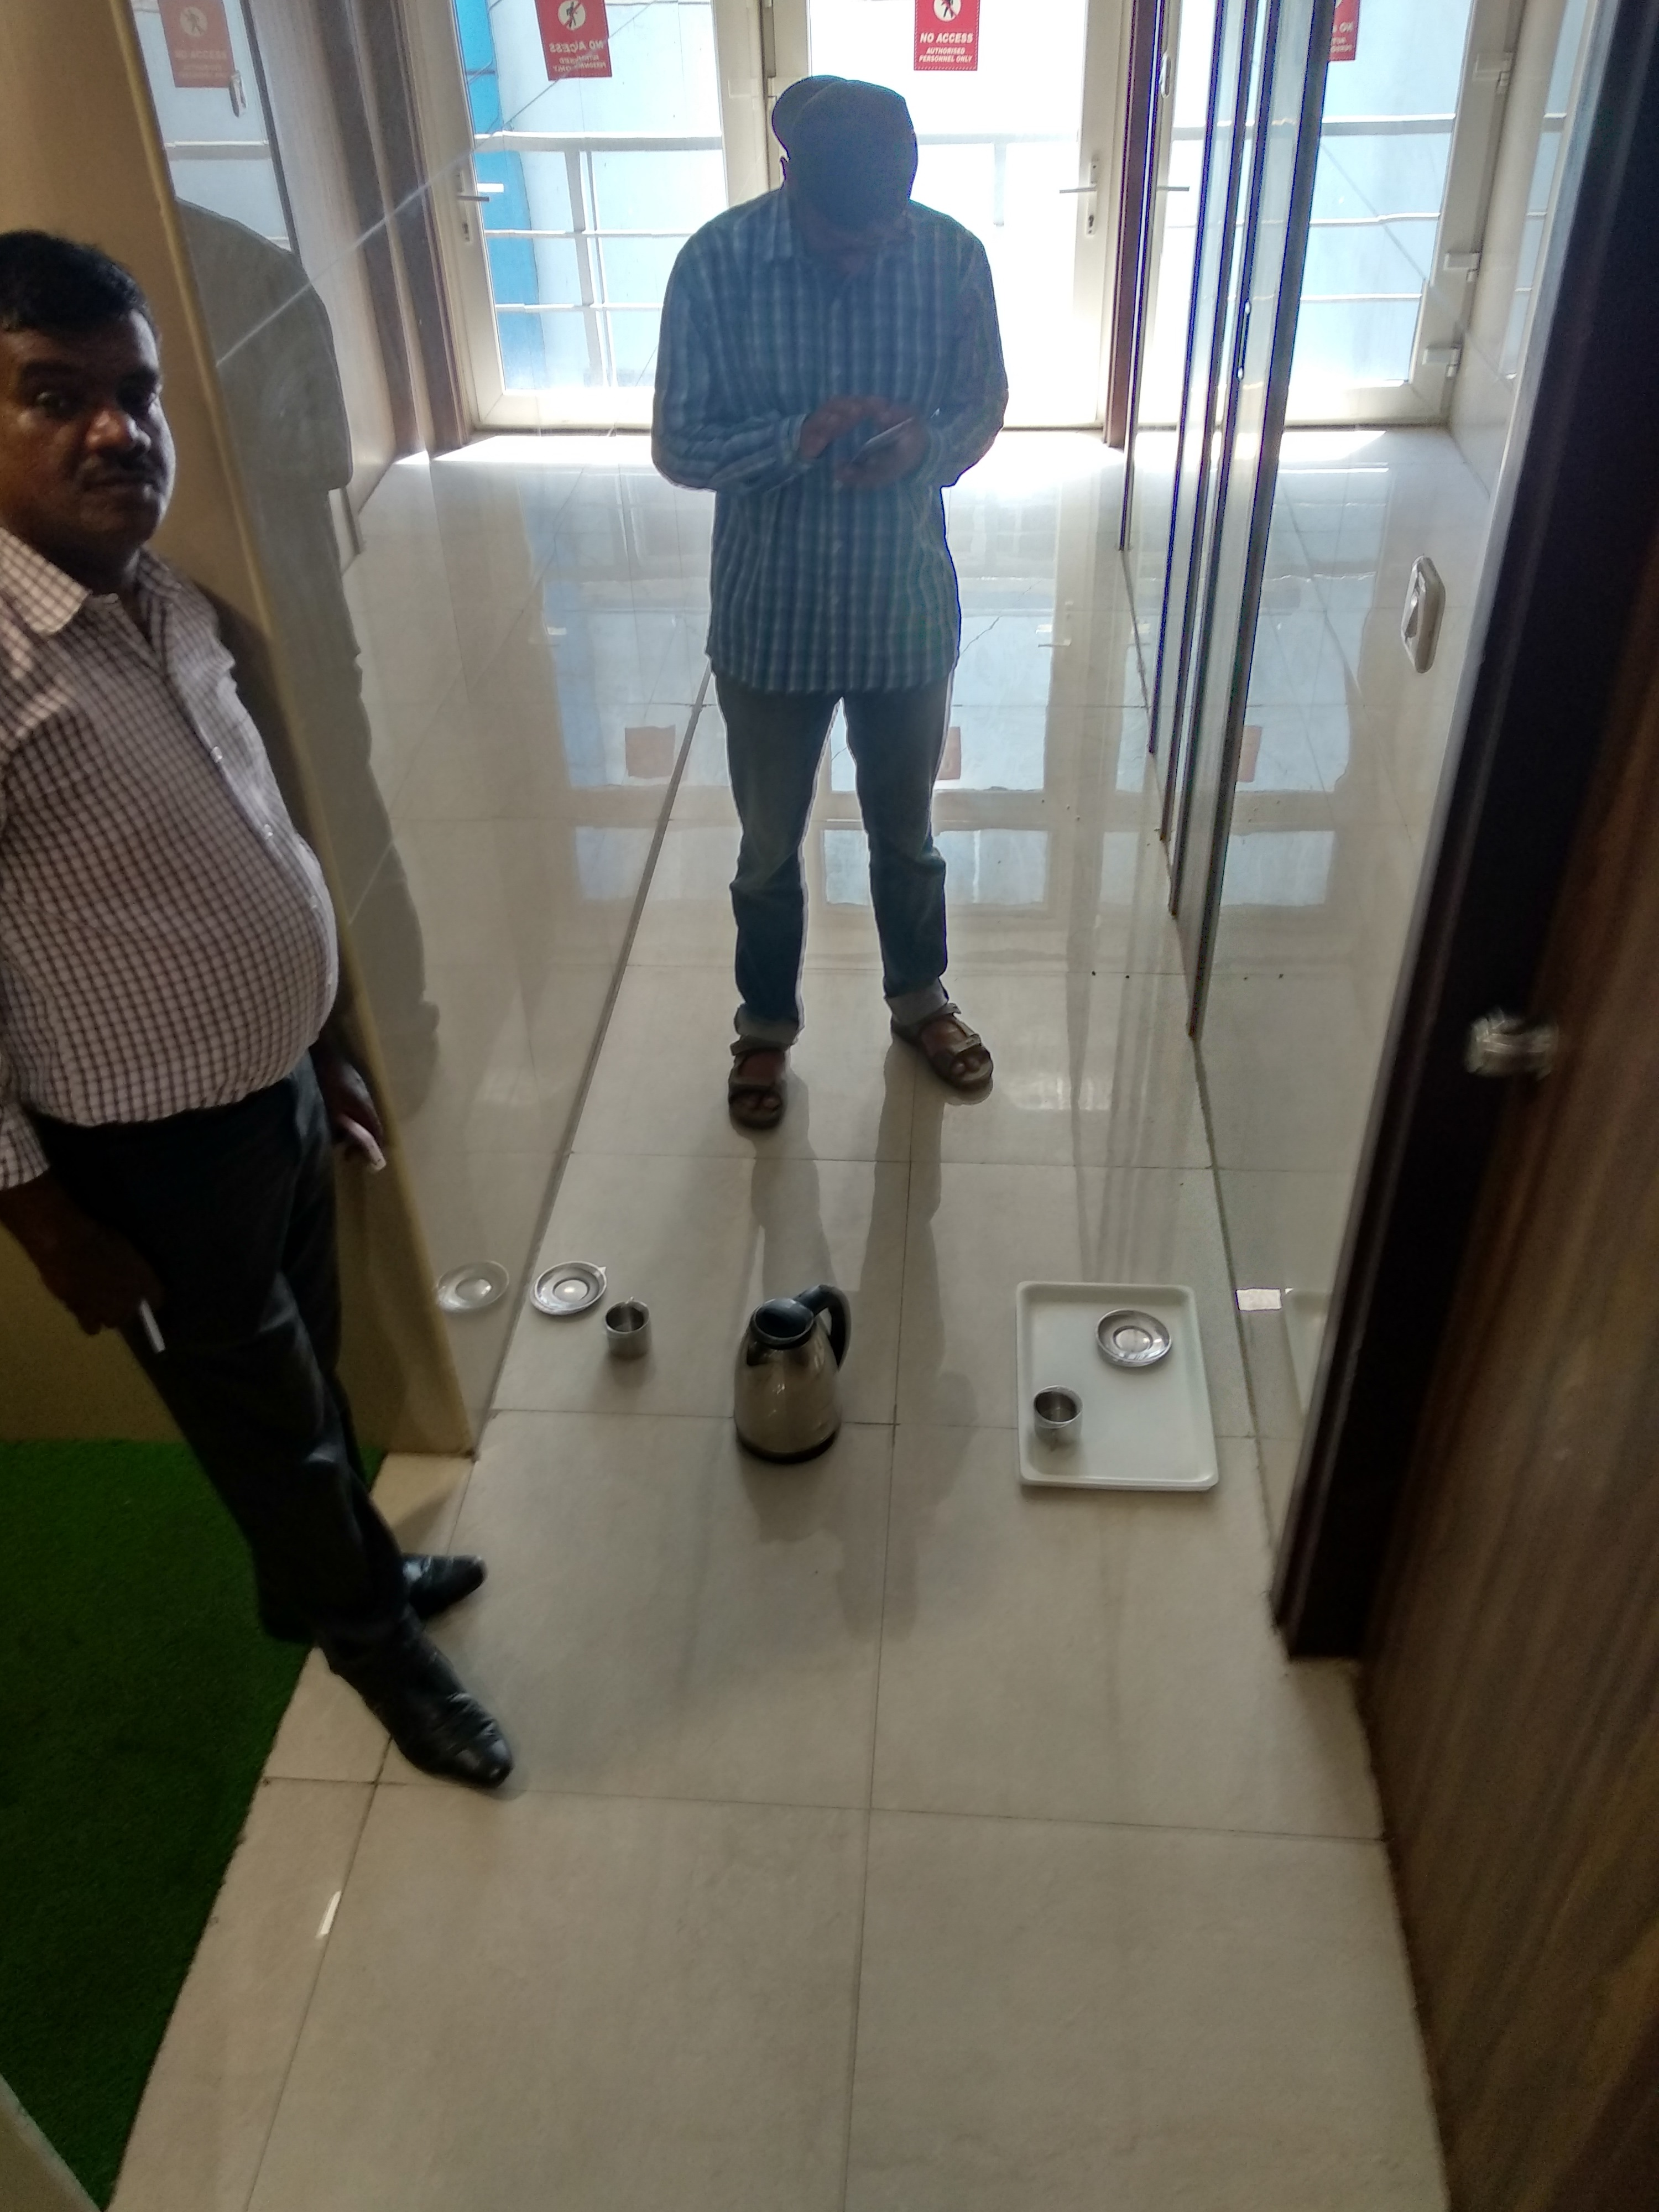CUP: (1032, 1379, 1089, 1449), (603, 1310, 657, 1359)
FLASK: (734, 1289, 861, 1461)
